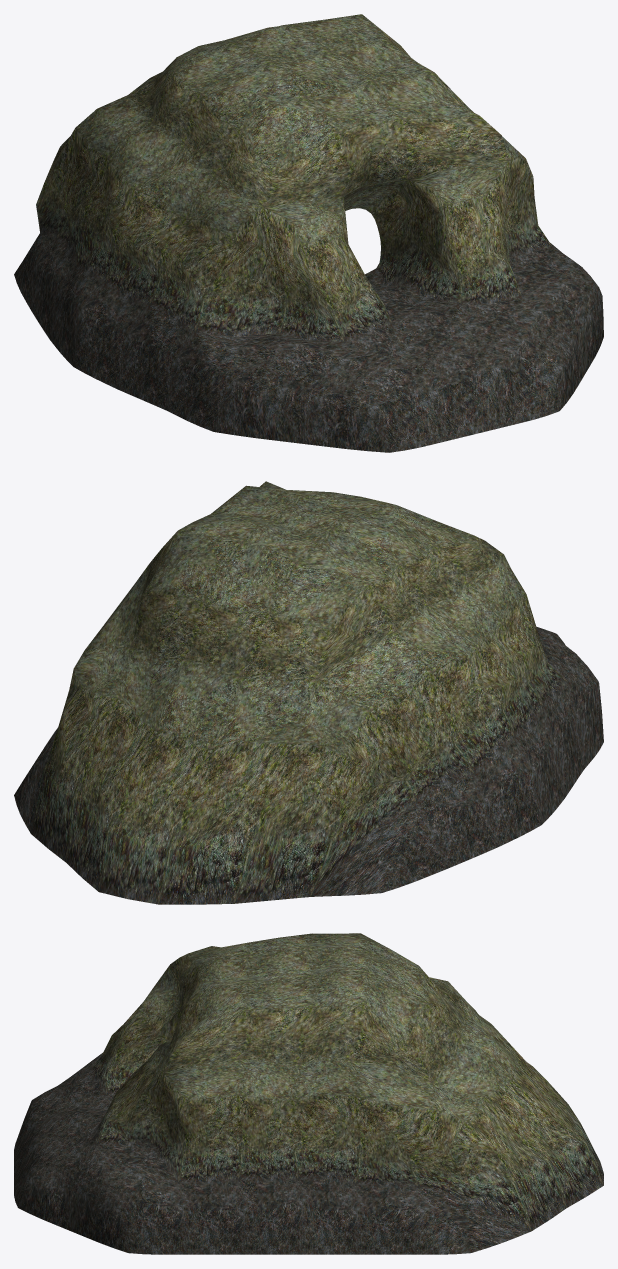
File: thm_all_cave_flatland_s03_damprock_r0_mesh_l0.fbx
3 renders of one model, top to bottom at view 1: azimuth 30°, elevation 25°; view 2: azimuth 150°, elevation 25°; view 3: azimuth 270°, elevation 25°, orthographic. The views are drawn at different scales.
Parts seen in each view (by area): view 1: mesh_node; view 2: mesh_node; view 3: mesh_node.
Boxes of the visible parts, <box> form: mesh_node: <box>14,14,603,452</box>; mesh_node: <box>14,481,603,904</box>; mesh_node: <box>14,933,603,1254</box>.
Size of the model in its own units: 56.36 by 31.43 by 78.78.
